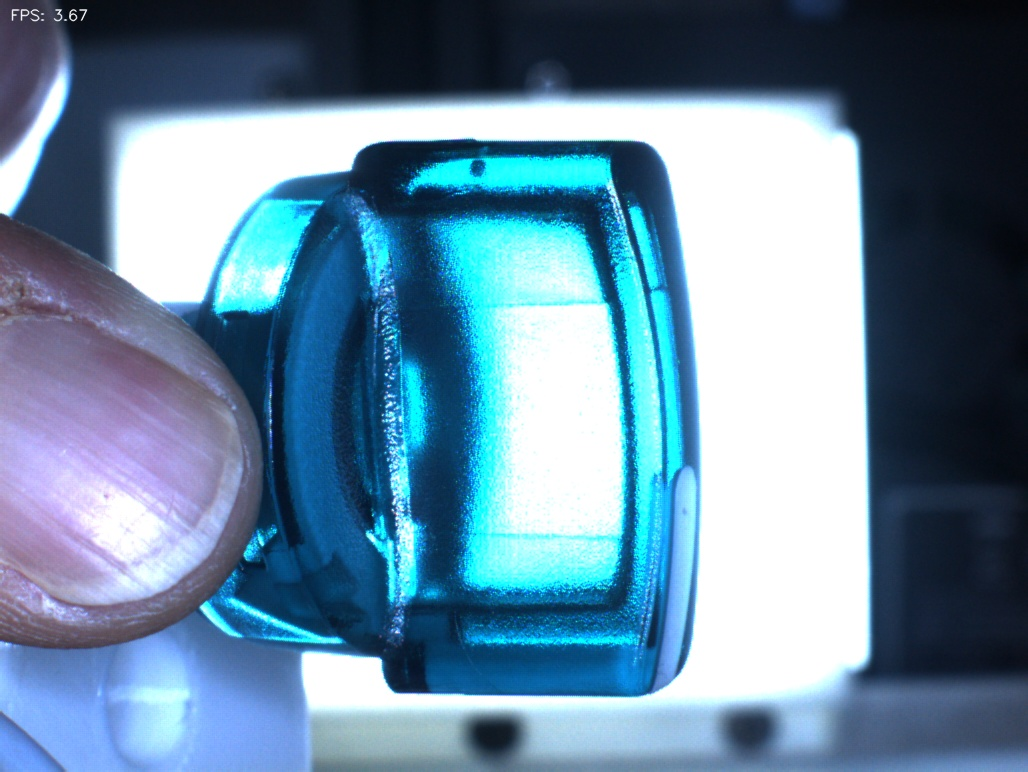Bulle: (436, 126, 517, 208)
